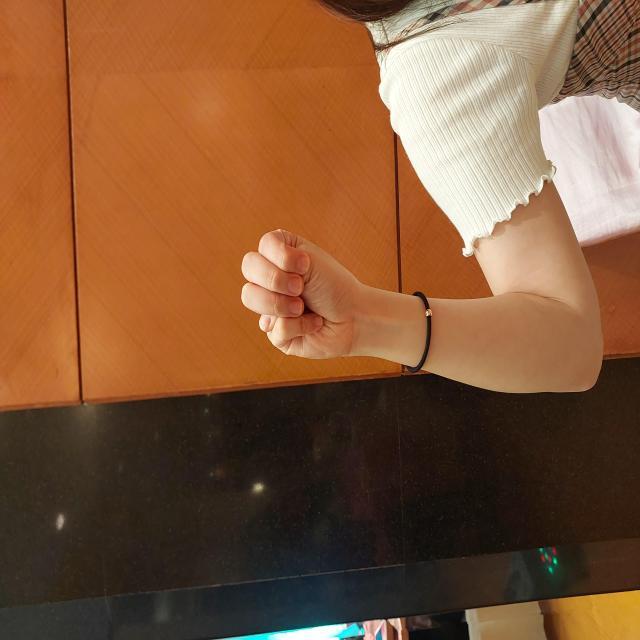M: (280, 239, 414, 361)
